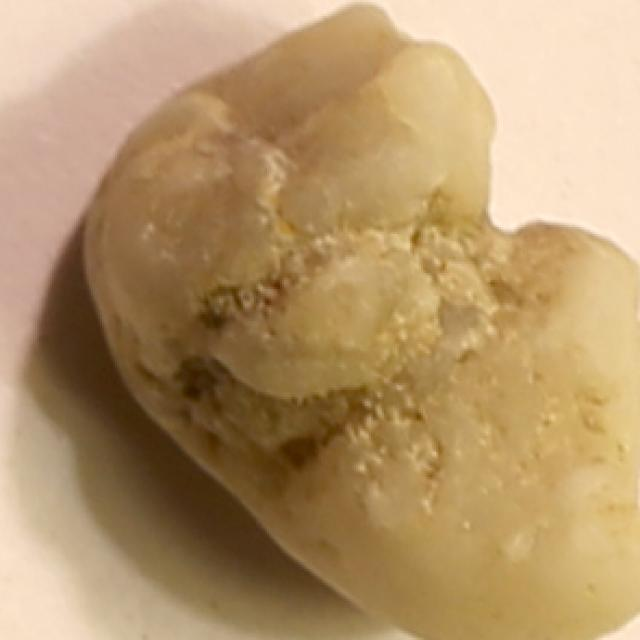stone: (86, 4, 640, 640)
